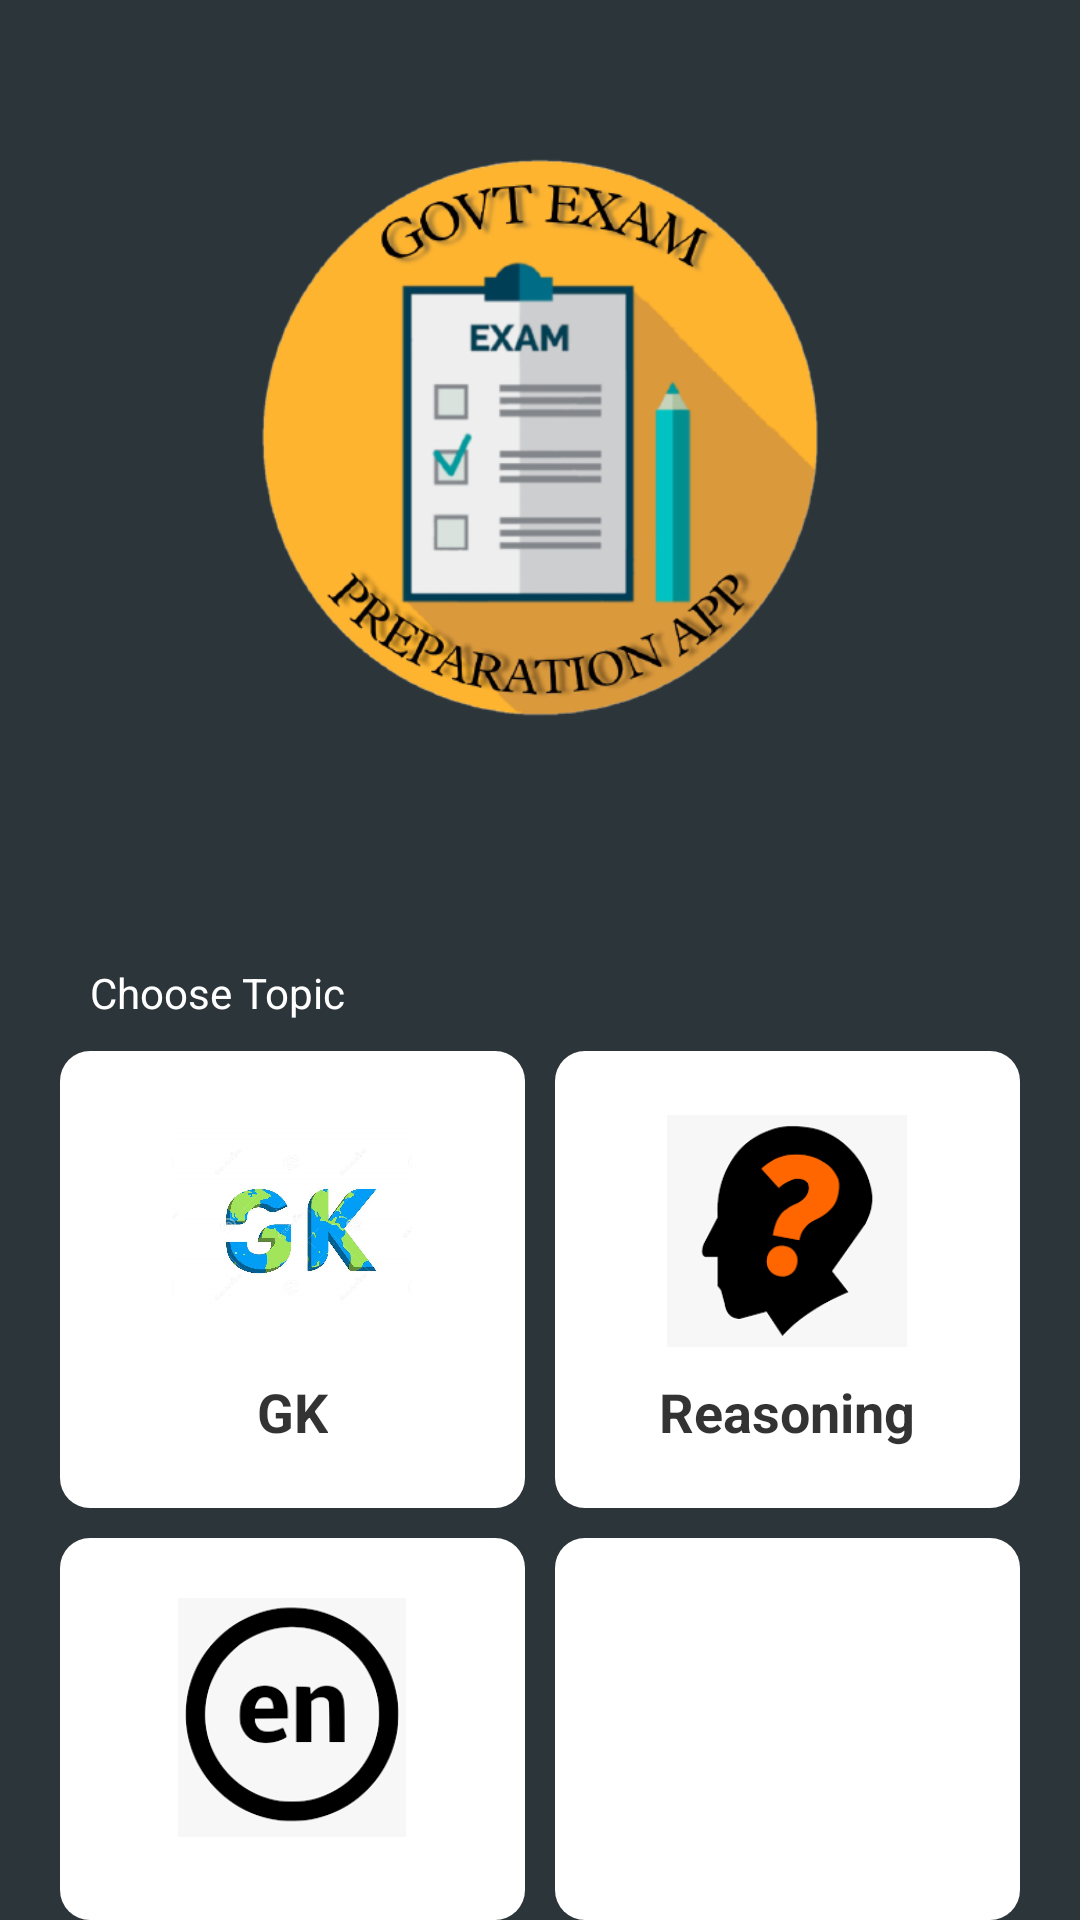

Icons on this 1080 x 1920 Android screen, each with its box as (x1, y1, x2, y2):
english: (185, 1607, 399, 1822)
